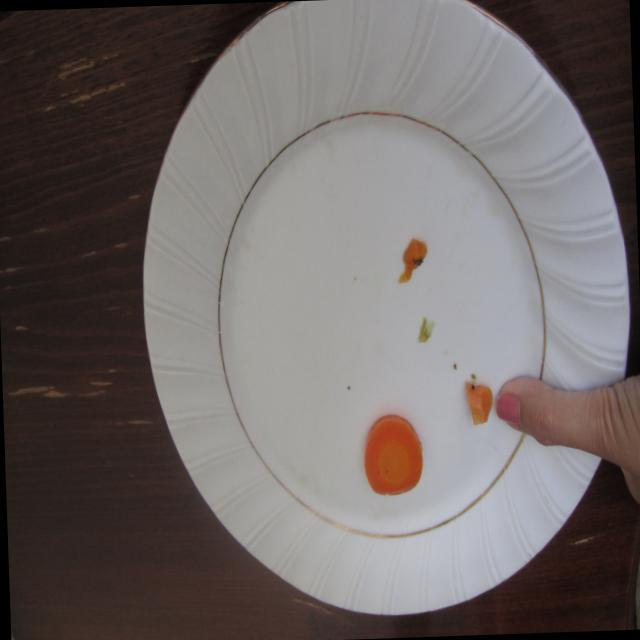Carrot: (356, 401, 431, 512)
Finger: (490, 369, 569, 458)
